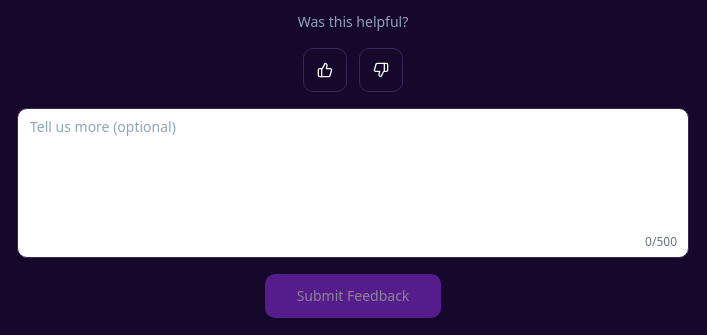
Test case: FeedbackButtons › should display character counter with correct count
This screenshot has width=707, height=335.
Expected: the text "0/500" is shown, top-left (645, 234), bottom-right (677, 250)
Note: Type some text
Type "This was helpful!" into the text box with placeholder "Tell us more (optional)" at (353, 183), box top-left (17, 108), bottom-right (689, 258)
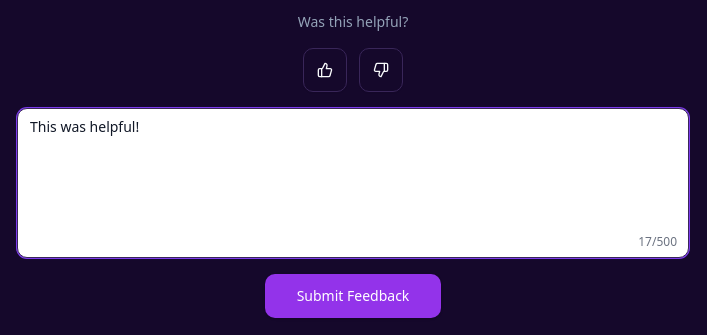
Expected: the text "17/500" is shown, top-left (638, 234), bottom-right (677, 250)
